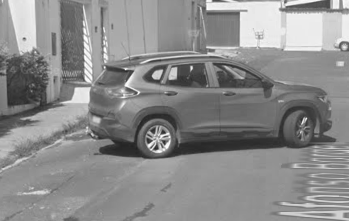car: (83, 40, 340, 161)
